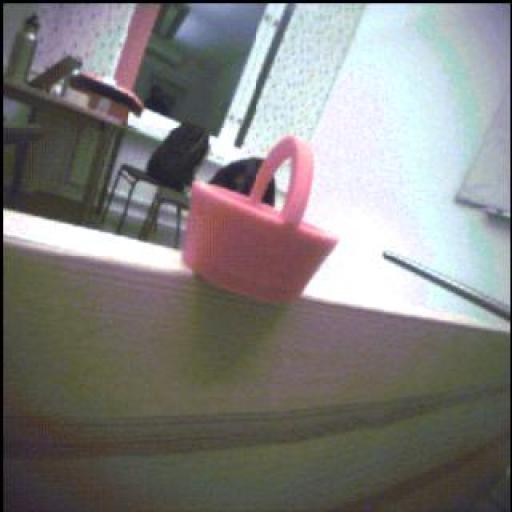Bucket: (182, 126, 339, 310)
